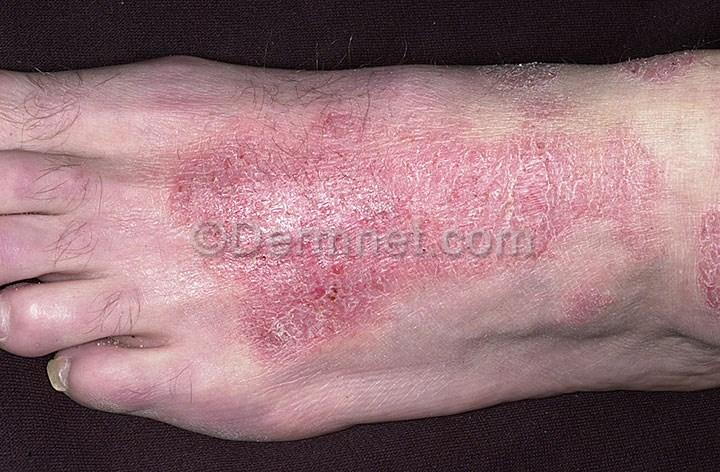Eczema: (151, 76, 609, 384), (674, 169, 720, 348), (625, 43, 708, 122)
